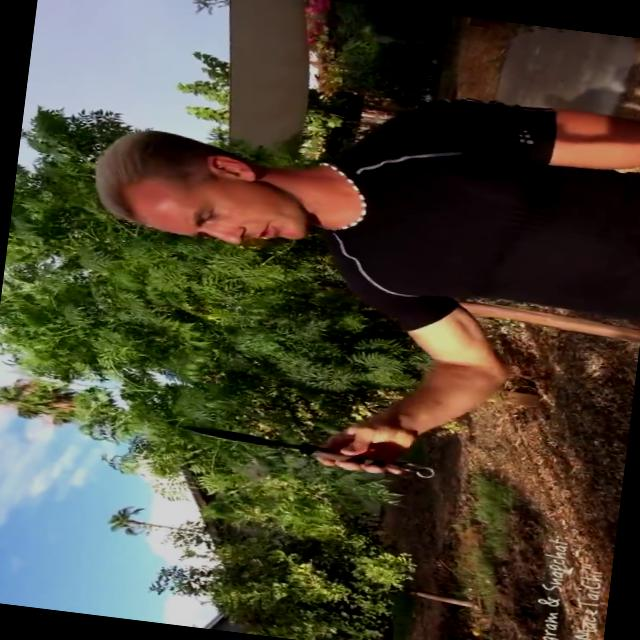knife: (166, 406, 446, 494)
